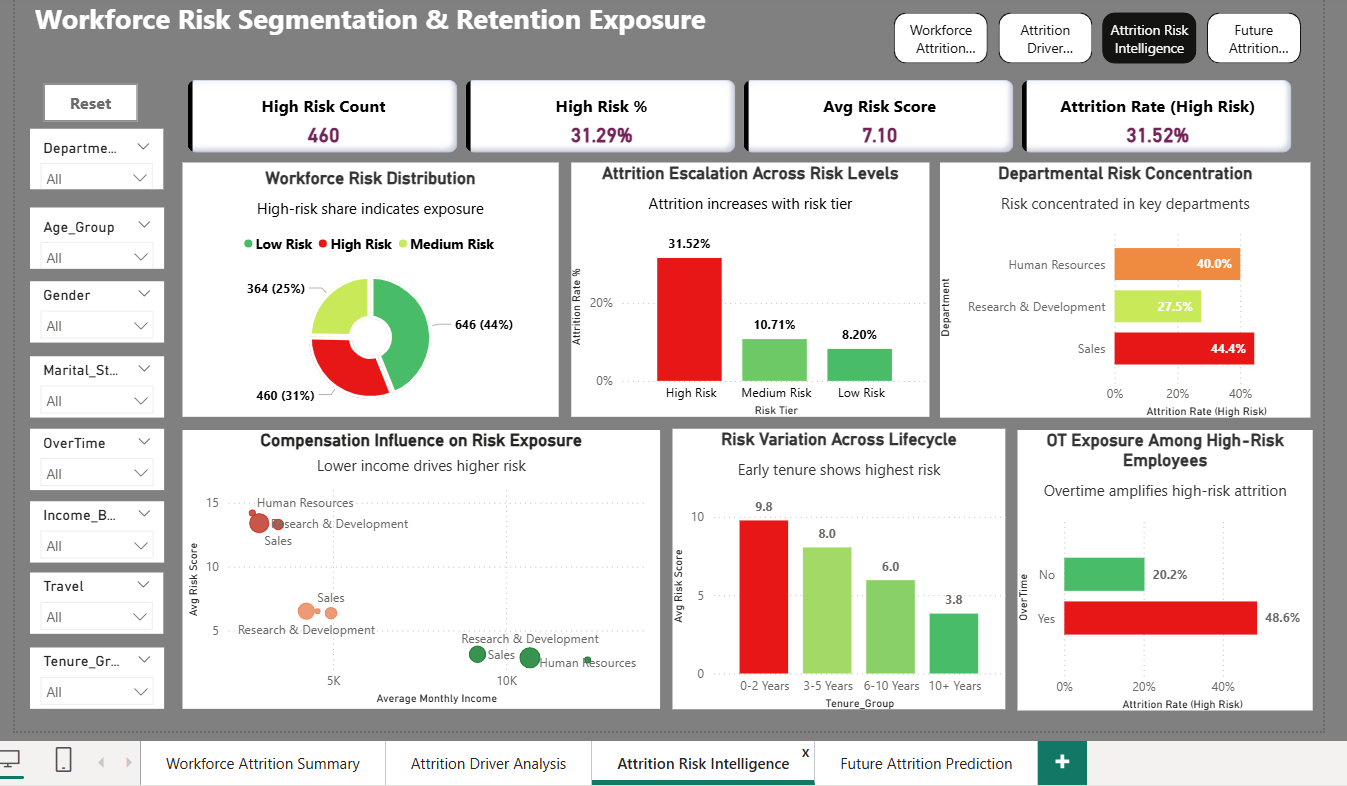

What the dashboard file says about the page in this screenshot:
{"tool":"powerbi","page":{"name":"Attrition Risk Intelligence","canvas":[1280,720],"ordinal":2},"visuals":[{"type":"textbox","box":[14.7,0,676.2,51.4],"z":0},{"type":"slicer","title":"All Department","fields":{"Values":["Attrition.Department"]},"box":[15,131,130,59],"z":1000},{"type":"slicer","fields":{"Values":["Attrition.Tenure_Group"]},"box":[15,638.3,130.8,59.9],"z":2000},{"type":"slicer","fields":{"Values":["Attrition.Business_Travel"]},"box":[15,564.9,130,59.9],"z":3000},{"type":"slicer","fields":{"Values":["Attrition.Income_Band"]},"box":[15,495.2,130.8,59.9],"z":4000},{"type":"slicer","fields":{"Values":["Attrition.Age_Group"]},"box":[15,207.9,130.8,59.9],"z":5000},{"type":"slicer","fields":{"Values":["Attrition.Gender"]},"box":[15,280,130.8,59.9],"z":6000},{"type":"slicer","fields":{"Values":["Attrition.Marital_Status"]},"box":[15,353.4,130.8,59.9],"z":7000},{"type":"slicer","fields":{"Values":["Attrition.OverTime"]},"box":[15,424.3,130.8,59.9],"z":8000},{"type":"actionButton","box":[28.1,86.8,91.7,36.7],"z":9000},{"type":"pageNavigator","box":[859.1,16.8,398.7,50.5],"z":10000},{"type":"cardVisual","fields":{"Data":["_Measure.High Risk Count","_Measure.High Risk %","_Measure.Avg Risk Score","_Measure.Attrition Rate (High Risk)"]},"box":[163.9,78.3,1093.2,81.9],"z":11000},{"type":"donutChart","title":"Workforce Risk Distribution","fields":{"Y":["_Measure.Total Employees"],"Category":["Attrition.Risk Tier"]},"box":[163.6,163.6,367.7,248.4],"z":12000},{"type":"clusteredColumnChart","title":"Attrition Escalation Across Risk Levels","fields":{"Y":["_Measure.Attrition Rate %"],"Category":["Attrition.Risk Tier"]},"box":[543.6,163.6,350.5,248.4],"z":13000},{"type":"barChart","title":"Departmental Risk Concentration","fields":{"Category":["Attrition.Department"],"Y":["_Measure.Attrition Rate (High Risk)"]},"box":[905.2,163.6,362.8,249.7],"z":14000},{"type":"scatterChart","title":"Compensation Influence on Risk Exposure","fields":{"Series":["Attrition.Risk Tier"],"X":["_Measure.Average Monthly Income"],"Y":["_Measure.Avg Risk Score"],"Category":["Attrition.Department"],"Size":["_Measure.Total Employees"]},"box":[163.6,425.5,467.3,273],"z":15000},{"type":"columnChart","title":"Risk Variation Across Lifecycle","fields":{"Y":["_Measure.Avg Risk Score"],"Category":["Attrition.Tenure_Group"]},"box":[643.2,424.3,325.9,274.3],"z":16000},{"type":"barChart","title":"OT Exposure Among High-Risk Employees","fields":{"Category":["Attrition.OverTime"],"Y":["_Measure.Attrition Rate (High Risk)"]},"box":[980.2,425.5,289,274.3],"z":17000}]}

Visuals, with their boxes on the page's 1280x720 design canvas (x1, y1, x2, y2). These are canvas units, not pixel positions in the 1347x786 screenshot, which may show the page scaled, cropped or inside an application window:
textbox: {"left": 15, "top": 0, "right": 691, "bottom": 51}
"All Department" slicer: {"left": 15, "top": 131, "right": 145, "bottom": 190}
slicer - Attrition.Tenure_Group: {"left": 15, "top": 638, "right": 146, "bottom": 698}
slicer - Attrition.Business_Travel: {"left": 15, "top": 565, "right": 145, "bottom": 625}
slicer - Attrition.Income_Band: {"left": 15, "top": 495, "right": 146, "bottom": 555}
slicer - Attrition.Age_Group: {"left": 15, "top": 208, "right": 146, "bottom": 268}
slicer - Attrition.Gender: {"left": 15, "top": 280, "right": 146, "bottom": 340}
slicer - Attrition.Marital_Status: {"left": 15, "top": 353, "right": 146, "bottom": 413}
slicer - Attrition.OverTime: {"left": 15, "top": 424, "right": 146, "bottom": 484}
actionButton: {"left": 28, "top": 87, "right": 120, "bottom": 124}
pageNavigator: {"left": 859, "top": 17, "right": 1258, "bottom": 67}
cardVisual - _Measure.High Risk Count x _Measure.High Risk %: {"left": 164, "top": 78, "right": 1257, "bottom": 160}
"Workforce Risk Distribution" donutChart: {"left": 164, "top": 164, "right": 531, "bottom": 412}
"Attrition Escalation Across Risk Levels" clusteredColumnChart: {"left": 544, "top": 164, "right": 894, "bottom": 412}
"Departmental Risk Concentration" barChart: {"left": 905, "top": 164, "right": 1268, "bottom": 413}
"Compensation Influence on Risk Exposure" scatterChart: {"left": 164, "top": 426, "right": 631, "bottom": 698}
"Risk Variation Across Lifecycle" columnChart: {"left": 643, "top": 424, "right": 969, "bottom": 699}
"OT Exposure Among High-Risk Employees" barChart: {"left": 980, "top": 426, "right": 1269, "bottom": 700}
